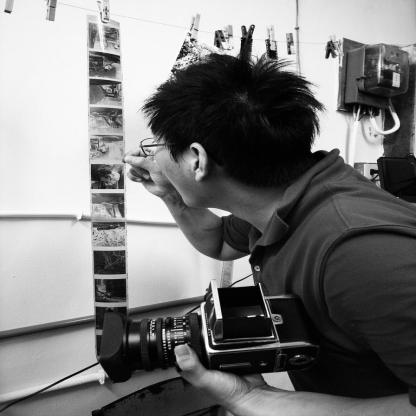Camera: (104, 279, 328, 391)
